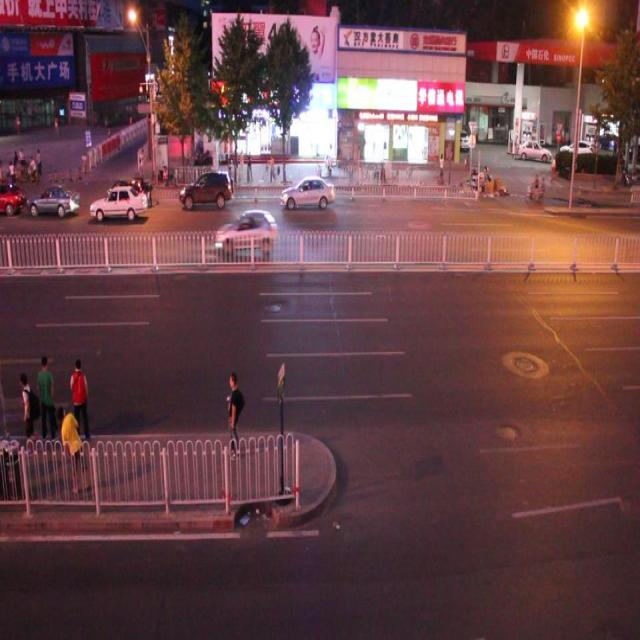car: (213, 207, 276, 255), (179, 168, 234, 212), (280, 172, 336, 212), (88, 183, 148, 220), (28, 183, 82, 222), (101, 180, 145, 223)
